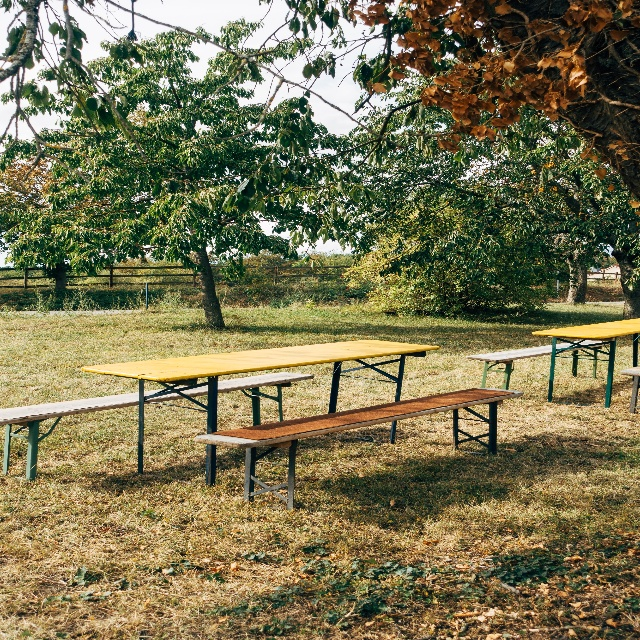obstacle: (5, 302, 515, 528)
